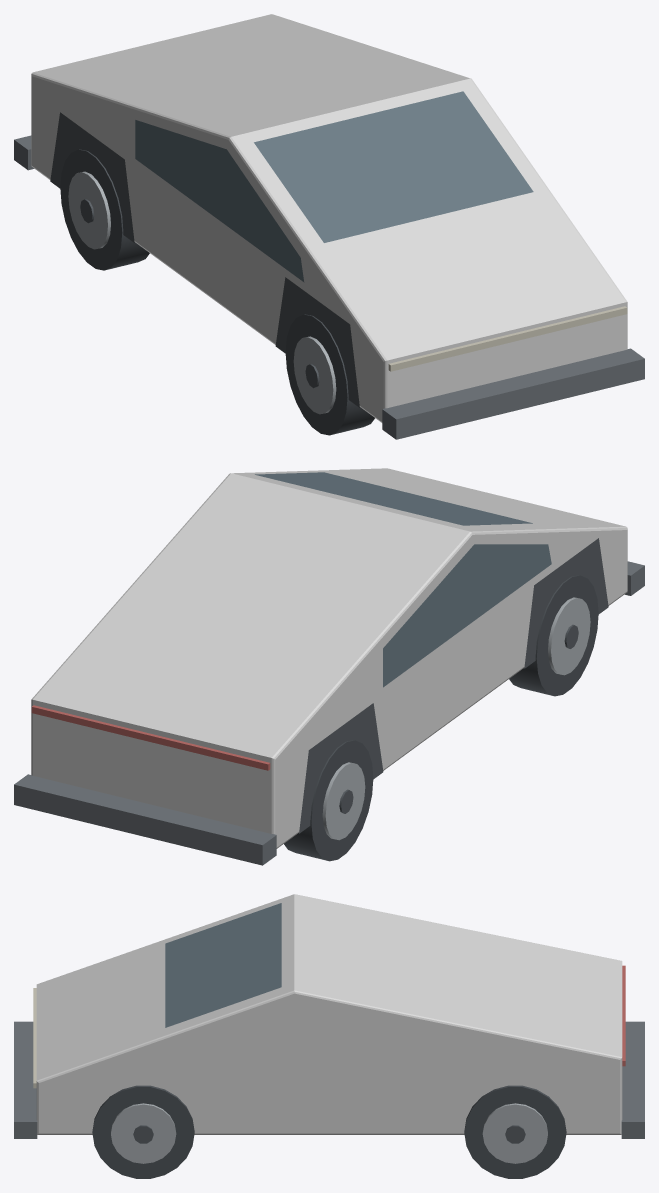
File: cyber.glb
3 renders of one model, top to bottom at view 1: azimuth 30°, elevation 25°; view 2: azimuth 150°, elevation 25°; view 3: azimuth 270°, elevation 25°, orthographic. The views are drawn at different scales.
Visible parts, largest first — view 1: cyber; view 2: cyber; view 3: cyber.
Boxes of the visible parts, left/top/right/bottom form: cyber: left=14, top=14, right=644, bottom=439; cyber: left=14, top=468, right=644, bottom=865; cyber: left=14, top=894, right=644, bottom=1178.
Bounding box in the file's own units: 2.14 × 1.77 × 5.43.
